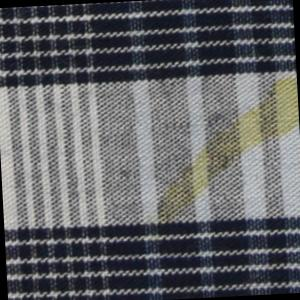Stain: (150, 73, 300, 224)
